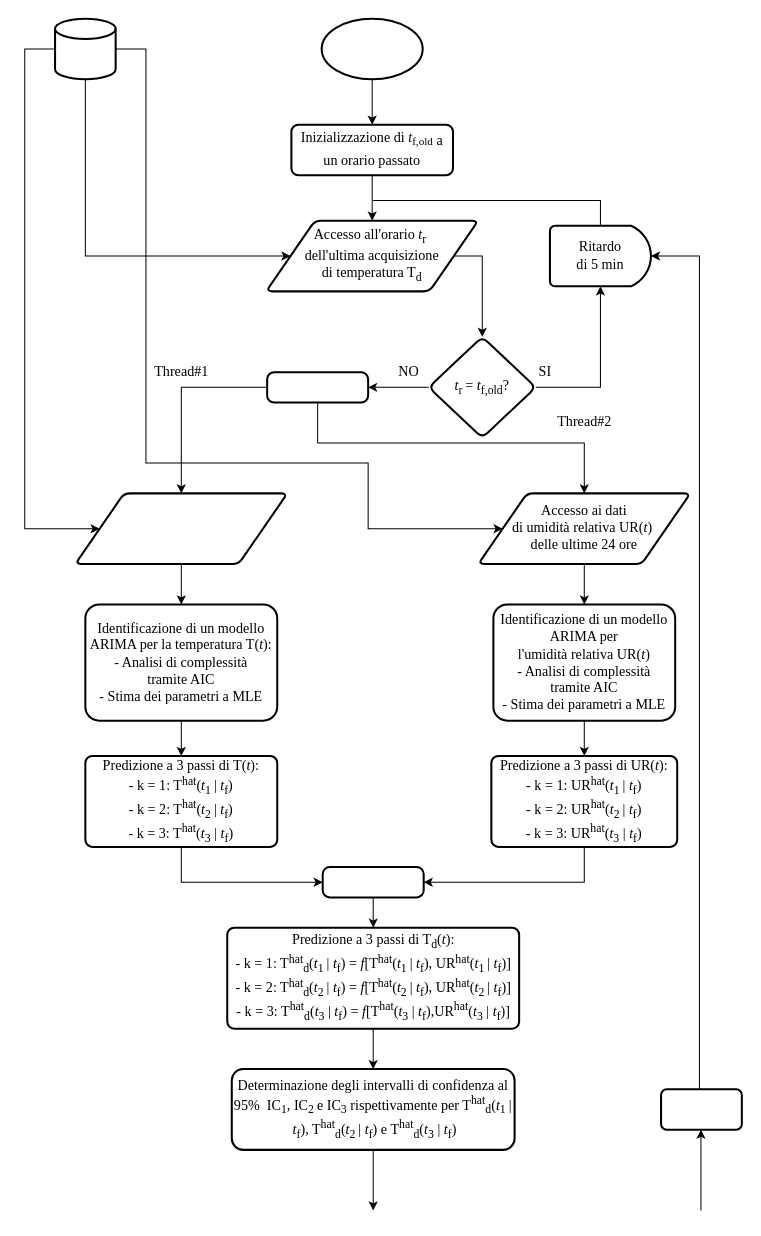
Some shapes in this 761 by 1236 pixel diagram are drawn without their labels. The shapes that lost their labels are listed below. From the top down, each one's box as (x1, y1, x2, y2) in pixels, then its label:
(54, 17, 116, 80): DB
(320, 17, 423, 80): INIZIO
(266, 371, 369, 403): Avvio thread
(74, 492, 288, 565): Accesso ai dati di temperatura T( t ) delle ultime 24 ore
(321, 866, 424, 898): Join
(660, 1088, 742, 1130): t f,old = t f
